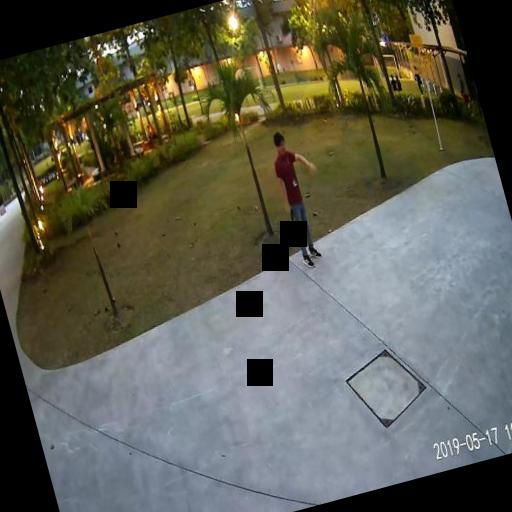Handgun: (283, 204, 295, 226)
